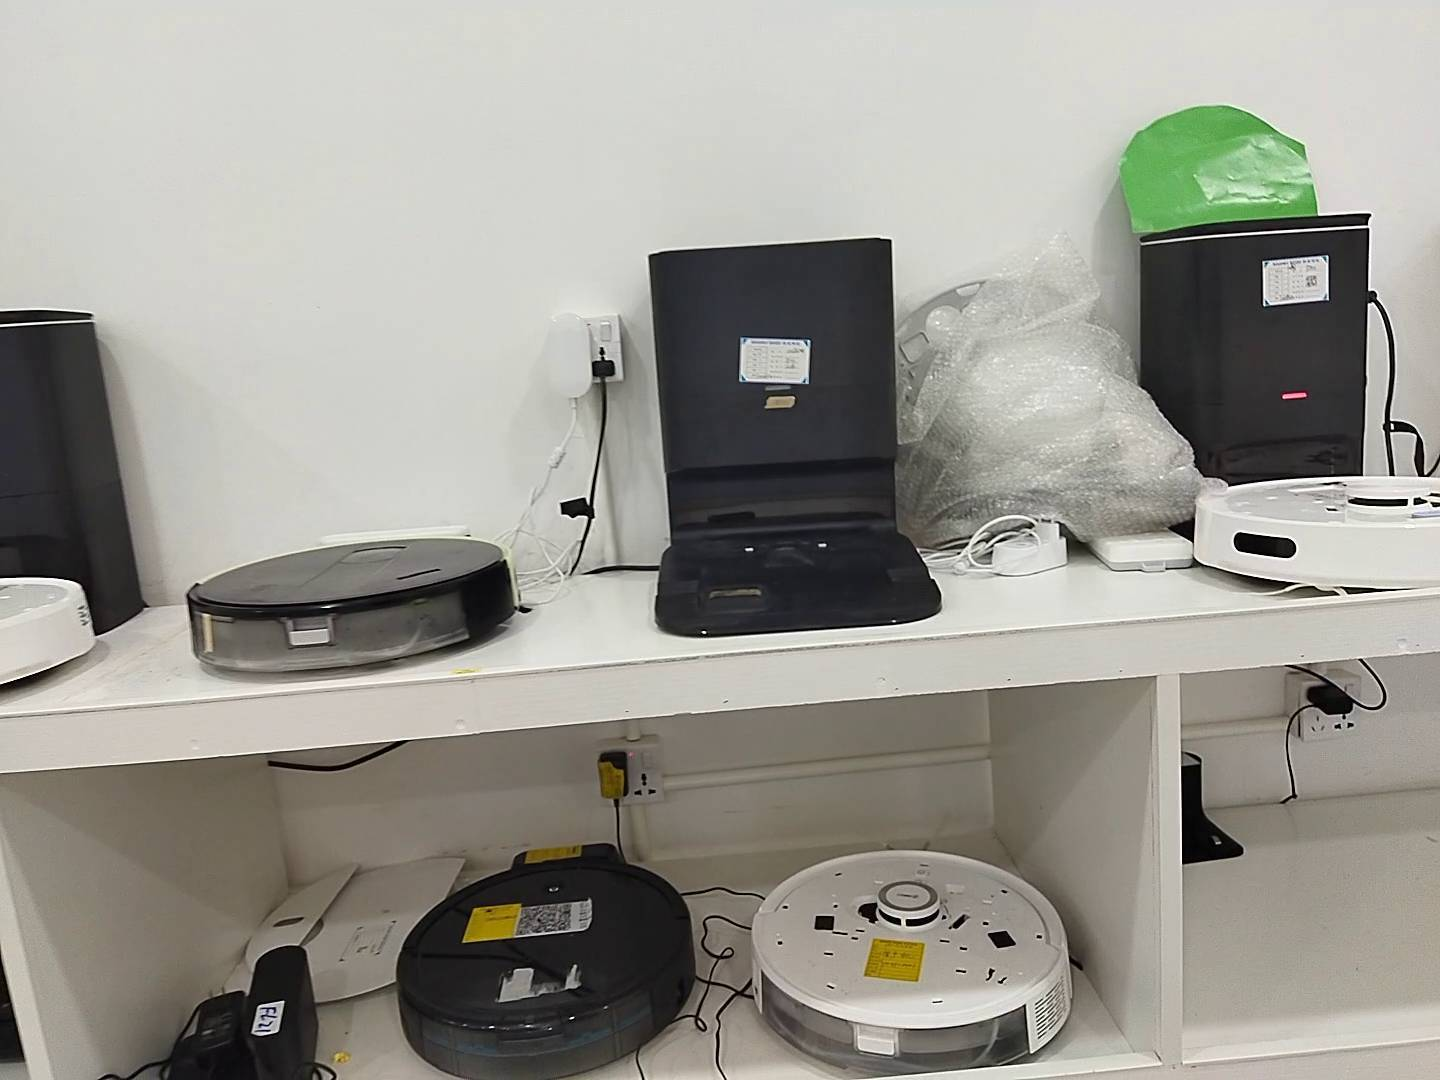dust collecting barrel: (647, 237, 945, 636), (1140, 212, 1375, 483)
recharge seat: (163, 945, 323, 1080)
